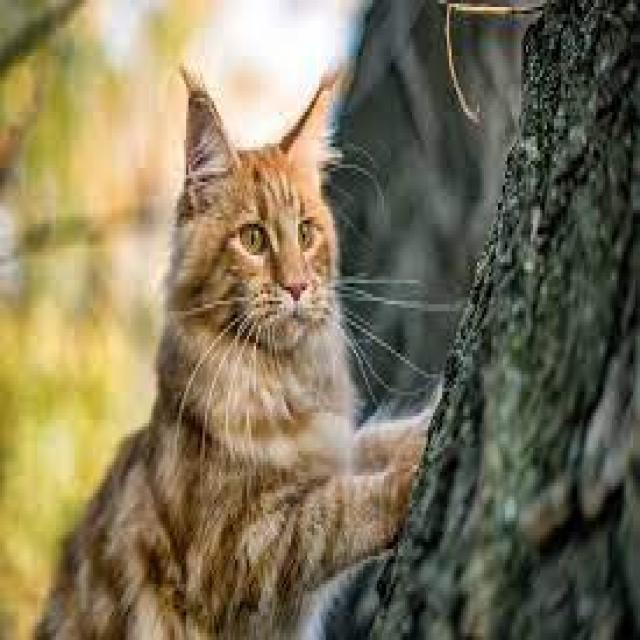Cat: (28, 60, 443, 636)
